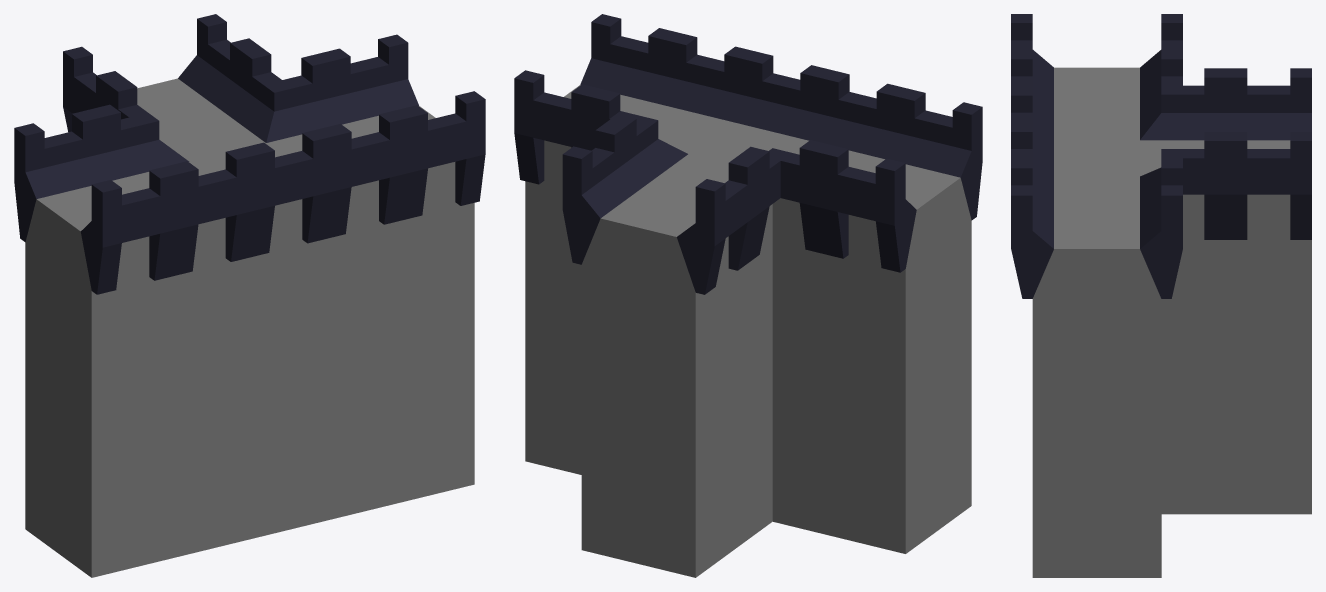
File: Defence Joint.fbx
3 renders of one model, left to right at view 1: azimuth 30°, elevation 25°; view 2: azimuth 150°, elevation 25°; view 3: azimuth 270°, elevation 25°, orthographic. The views are drawn at different scales.
Parts seen in each view (by area): view 1: Defense Triple; view 2: Defense Triple; view 3: Defense Triple.
Part boxes in pixels (bbox=[...]): Defense Triple: bbox=[14, 14, 485, 577]; Defense Triple: bbox=[514, 14, 982, 577]; Defense Triple: bbox=[1011, 14, 1311, 577].
Size of the model in its own units: 100 by 98.23 by 70.
